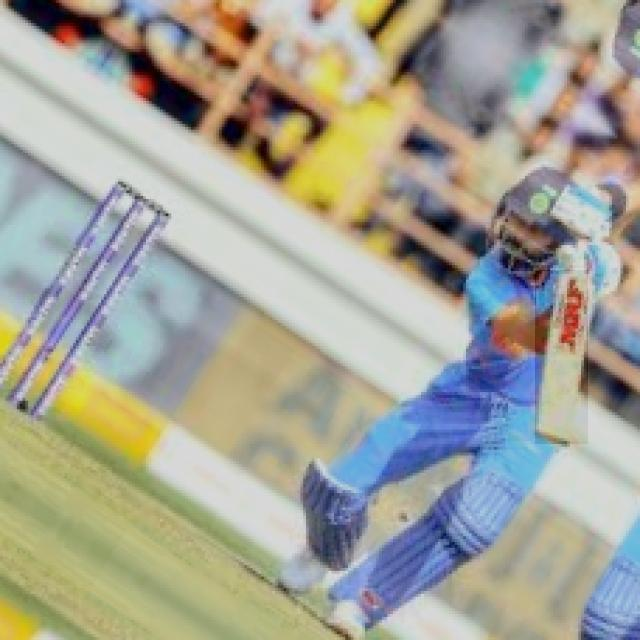bat: (535, 268, 588, 447)
toe: (535, 428, 578, 448)
